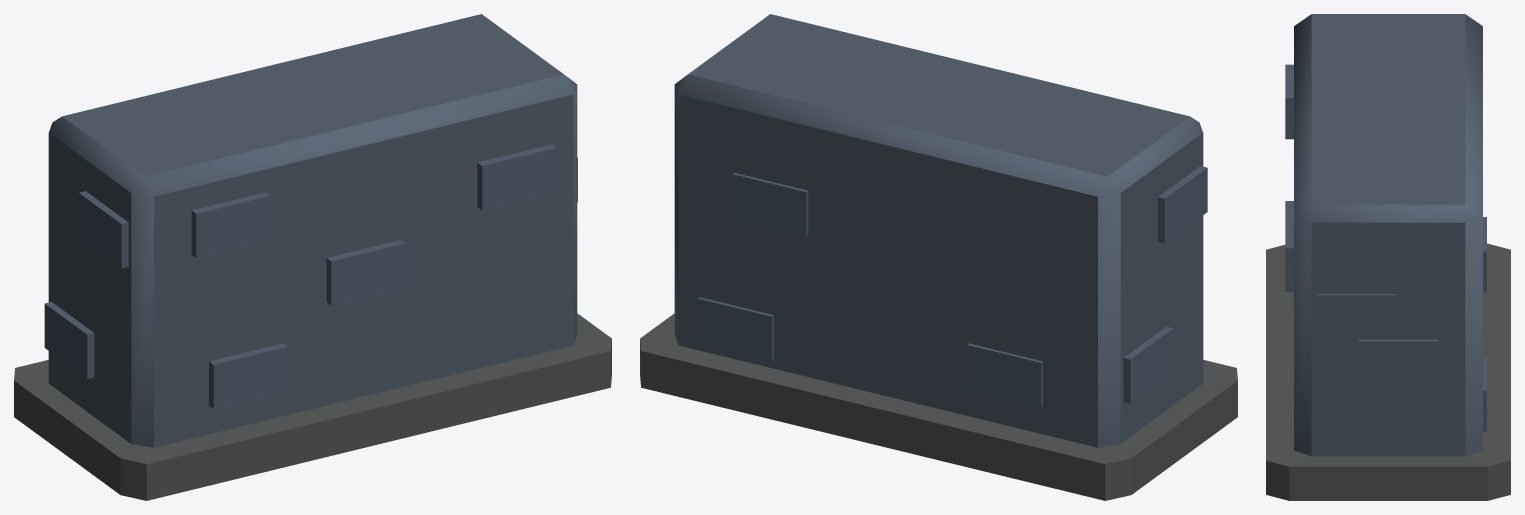
The model's file is ChimneyWall_2_C.fbx.
The picture shows the model from 3 angles, left to right: view 1: azimuth 30°, elevation 25°; view 2: azimuth 150°, elevation 25°; view 3: azimuth 270°, elevation 25°; orthographic projection. The views are drawn at different scales.
Parts seen in each view (by area): view 1: ChimneyWall_2_C; view 2: ChimneyWall_2_C; view 3: ChimneyWall_2_C.
Part boxes in pixels (x1,y1,x2,y2): ChimneyWall_2_C: (14,14,611,500); ChimneyWall_2_C: (640,14,1237,500); ChimneyWall_2_C: (1266,14,1510,500).
Bounding box in the file's own units: 244 × 143 × 113.
